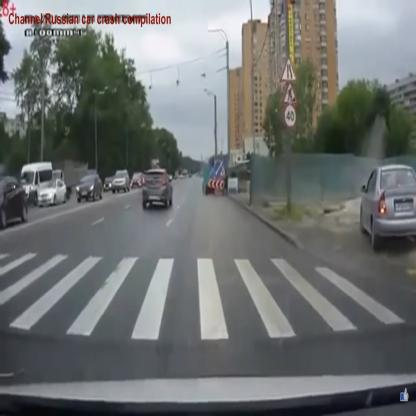crosswalk: (0, 250, 404, 340)
